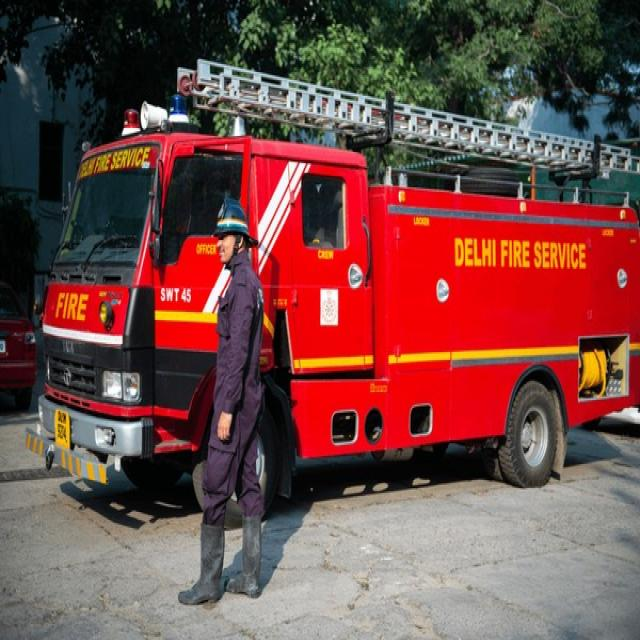emergency: (39, 60, 640, 503)
